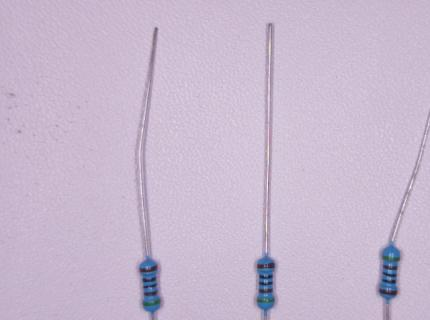Brown band: (144, 290, 158, 296), (383, 265, 397, 270), (259, 289, 273, 293)
Green band: (144, 298, 161, 306), (382, 255, 399, 262), (257, 298, 274, 303)
